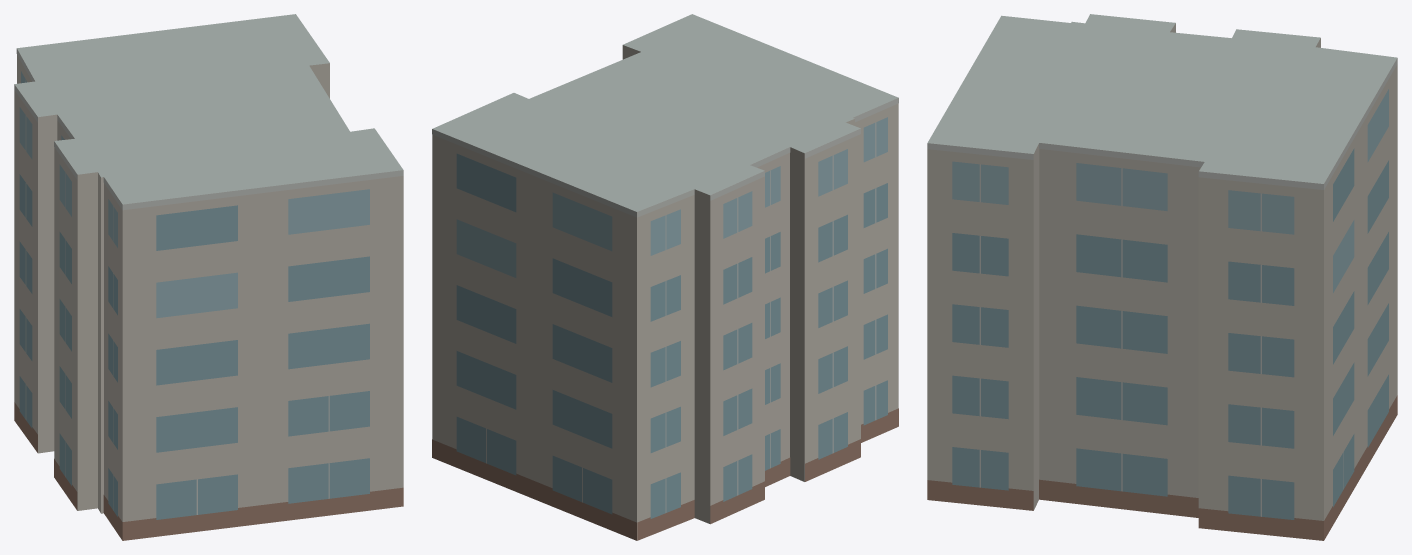
The model's file is survey-upis-32955597.glb.
3 views of the same model, side by side, from view 1: azimuth 30°, elevation 25°; view 2: azimuth 150°, elevation 25°; view 3: azimuth 270°, elevation 25° (orthographic). The views are drawn at different scales.
Parts seen in each view (by area): view 1: survey-upis-32955597.tmp; view 2: survey-upis-32955597.tmp; view 3: survey-upis-32955597.tmp.
Part boxes in pixels (<box>): survey-upis-32955597.tmp: <box>14,14,403,540</box>; survey-upis-32955597.tmp: <box>432,14,898,540</box>; survey-upis-32955597.tmp: <box>927,14,1397,540</box>.
Size of the model in its own units: 14.73 by 14.4 by 17.21.
